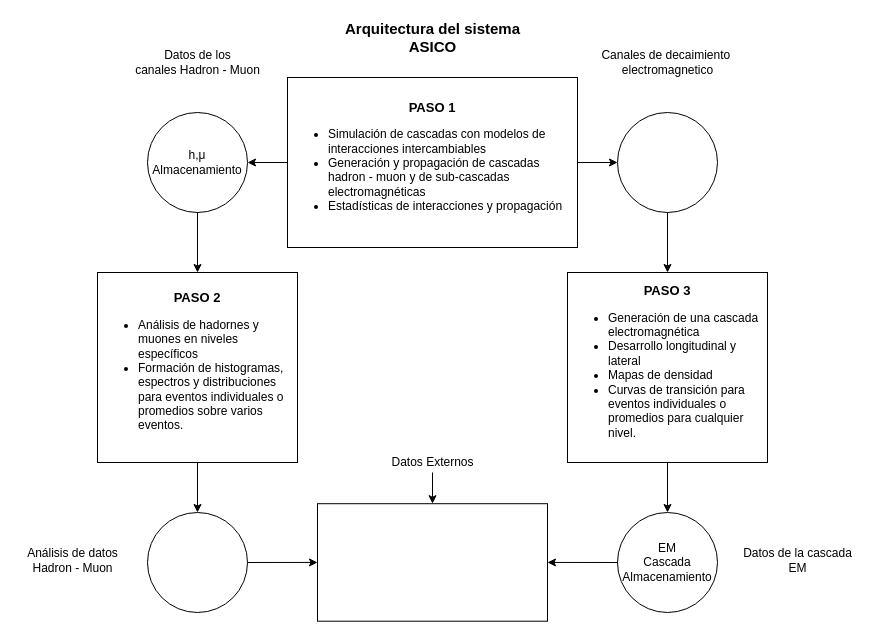
This 874x639 diagram has some shape labels left out. Here are the shapes that lost their labels. From the top down, the centre of each, then its label:
At pixel 667 162: "EM Almacenamiento".
At pixel 197 562: "h,μ Análsis Almacenamiento".
At pixel 432 562: "PASO 4 Análisis de correlaciones de los datos y parámetros de los PASOS 1 - 3".
